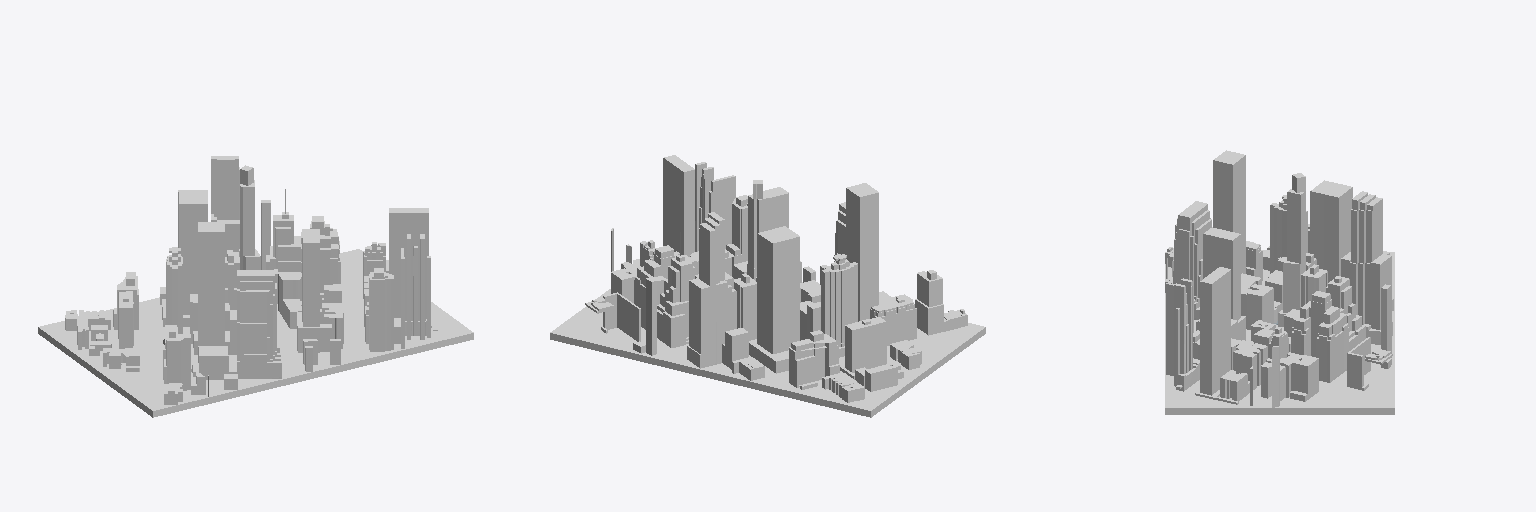
File: UrbanSysBase.obj
3 views of the same model, side by side, from view 1: azimuth 30°, elevation 25°; view 2: azimuth 150°, elevation 25°; view 3: azimuth 270°, elevation 25° (orthographic).
Bounding box in the file's own units: 500 × 240 × 310.